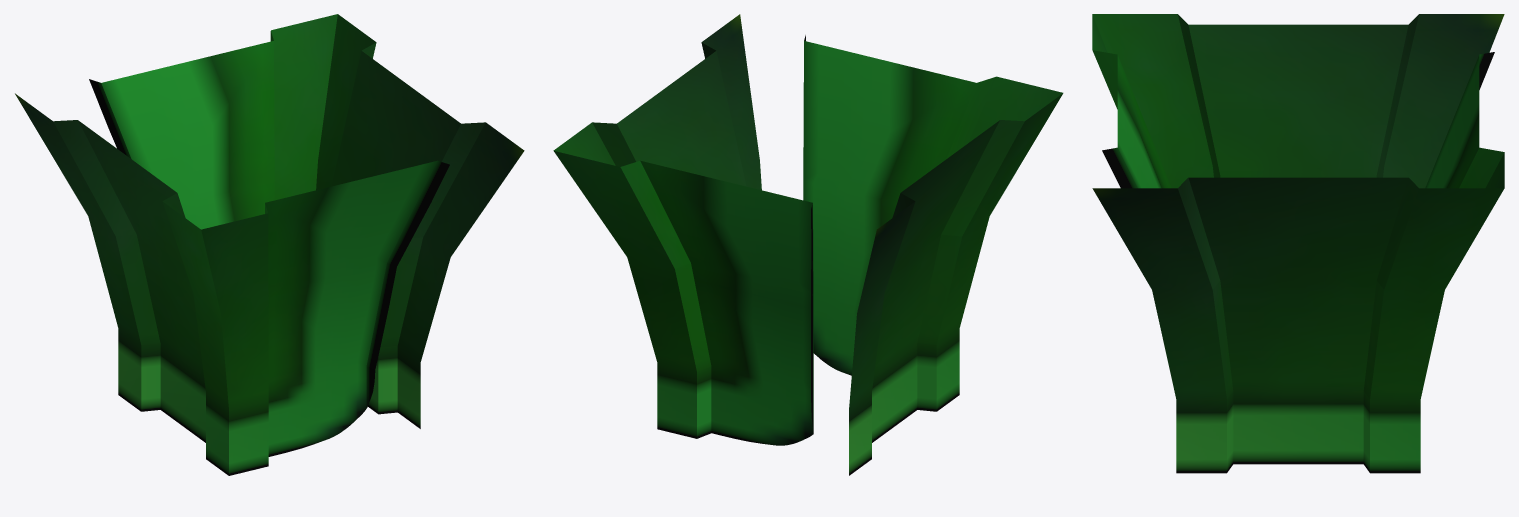
The model's file is sn_shengdi_post_001.FBX.
3 renders of one model, left to right at view 1: azimuth 30°, elevation 25°; view 2: azimuth 150°, elevation 25°; view 3: azimuth 270°, elevation 25°, orthographic. The views are drawn at different scales.
Parts seen in each view (by area): view 1: sn_shengdi_post_001; view 2: sn_shengdi_post_001; view 3: sn_shengdi_post_001.
Part boxes in pixels (x1,y1,x2,y2): sn_shengdi_post_001: (15, 14, 524, 475); sn_shengdi_post_001: (553, 14, 1063, 475); sn_shengdi_post_001: (1092, 14, 1504, 473).
Size of the model in its own units: 244 by 244 by 229.
